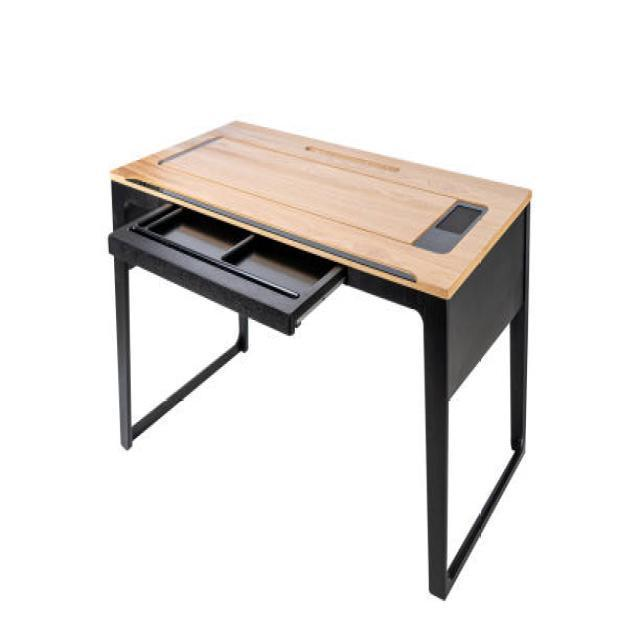table: (106, 118, 532, 600)
